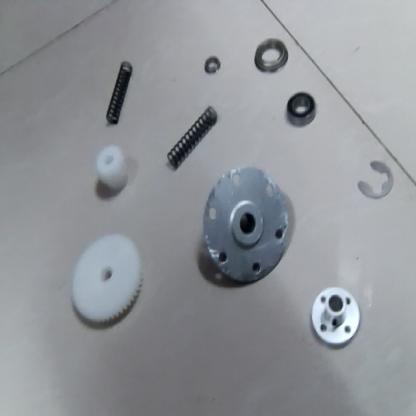FOD: (196, 172, 294, 288), (66, 232, 148, 333), (161, 103, 219, 173), (308, 284, 362, 352), (93, 144, 132, 201), (105, 61, 135, 131), (355, 160, 396, 204), (250, 36, 291, 73), (283, 89, 318, 127), (203, 54, 223, 75)
